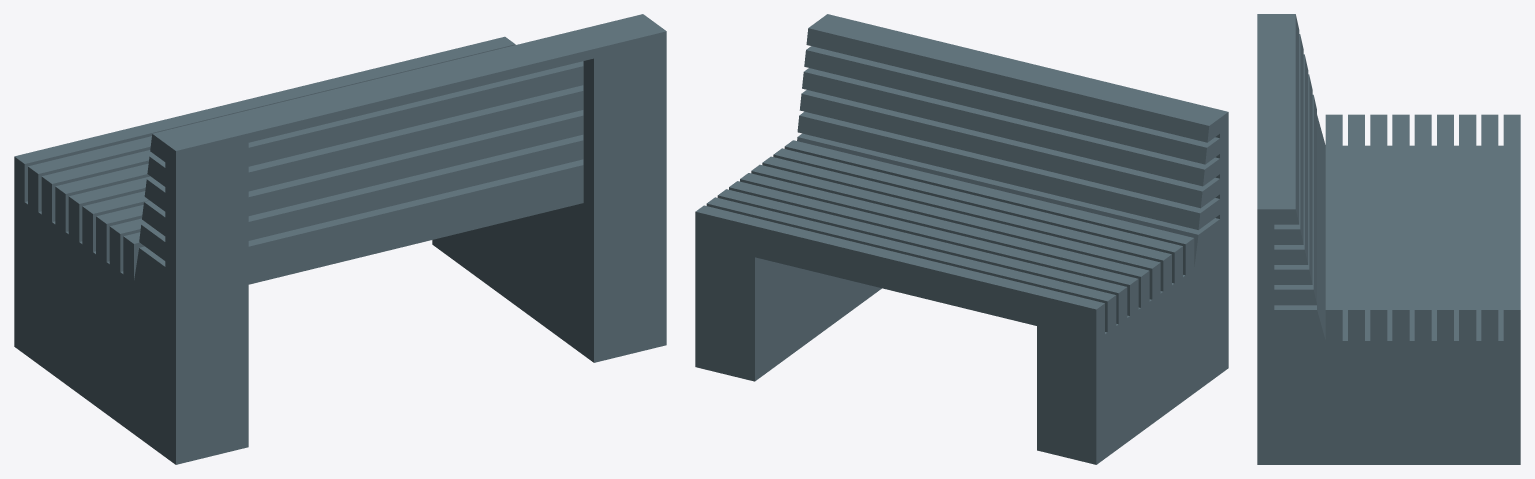
3 views of the same model, side by side, from view 1: azimuth 30°, elevation 25°; view 2: azimuth 150°, elevation 25°; view 3: azimuth 270°, elevation 25° (orthographic). The views are drawn at different scales.
Parts seen in each view (by area): view 1: mesh1_mesh1-geometry; view 2: mesh1_mesh1-geometry; view 3: mesh1_mesh1-geometry.
Boxes of the visible parts, left/top/right/bottom form: mesh1_mesh1-geometry: left=14, top=14, right=666, bottom=464; mesh1_mesh1-geometry: left=695, top=14, right=1228, bottom=464; mesh1_mesh1-geometry: left=1257, top=14, right=1520, bottom=464.
Bounding box in the file's own units: 0.7672 × 0.4689 × 0.4376.
